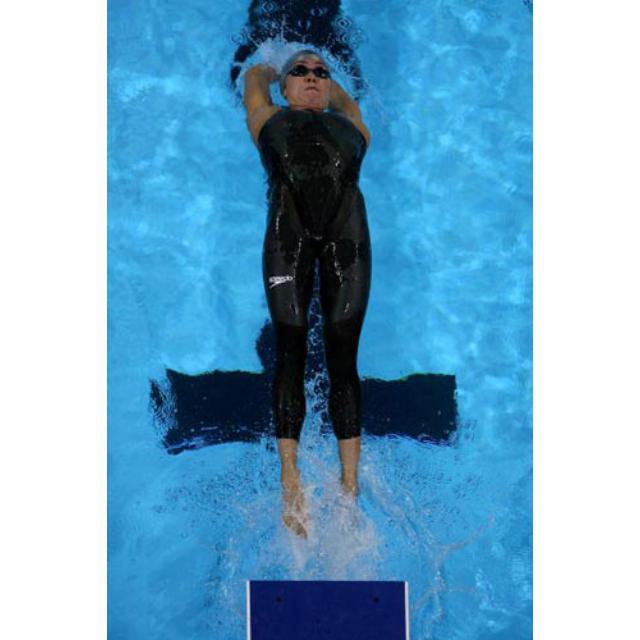human: (240, 43, 371, 547)
